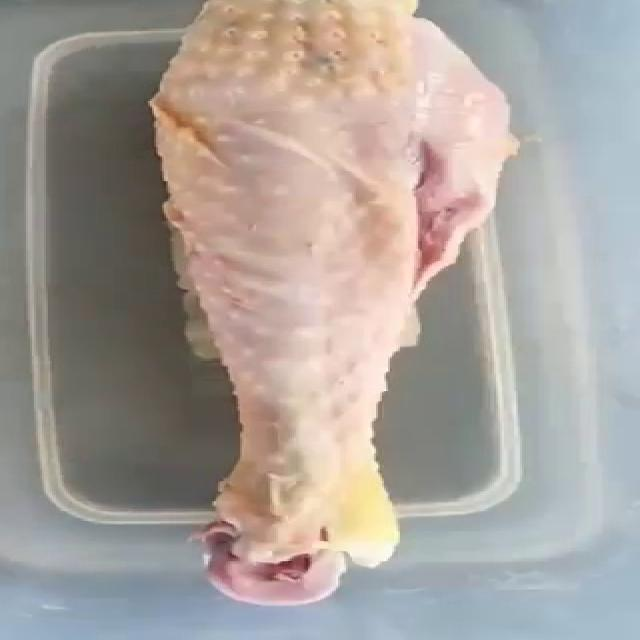chicken: (128, 0, 528, 610)
